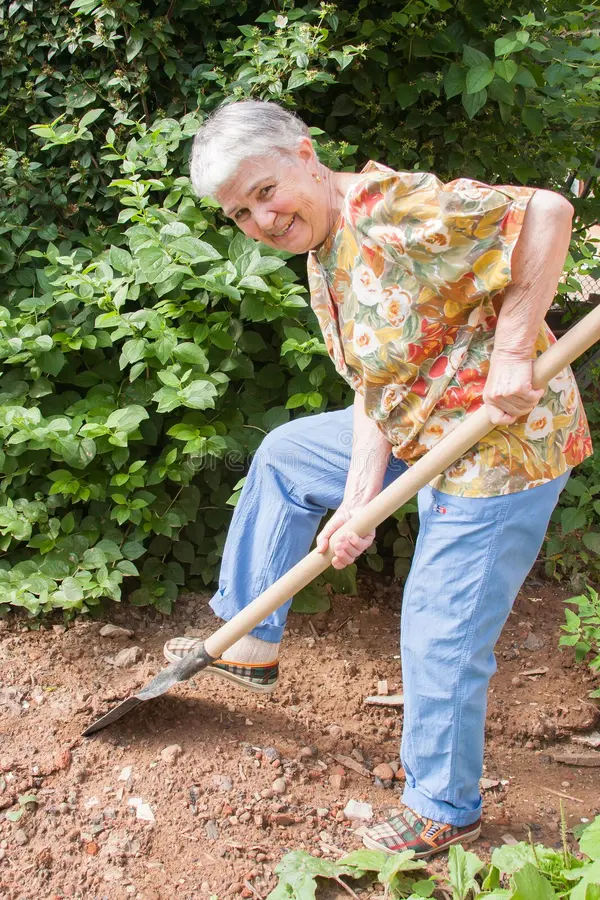person: (156, 90, 544, 845)
